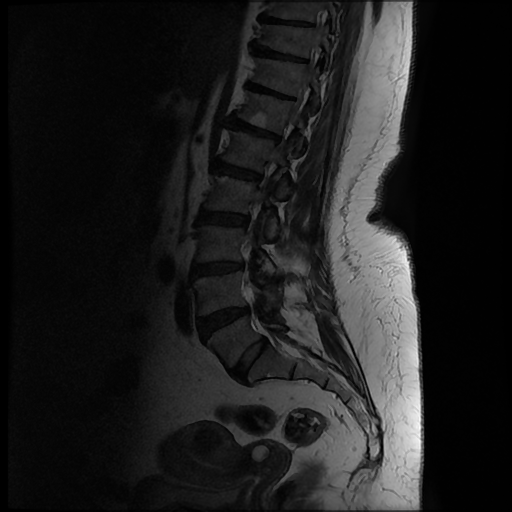RFS0: (245, 153, 284, 195)
